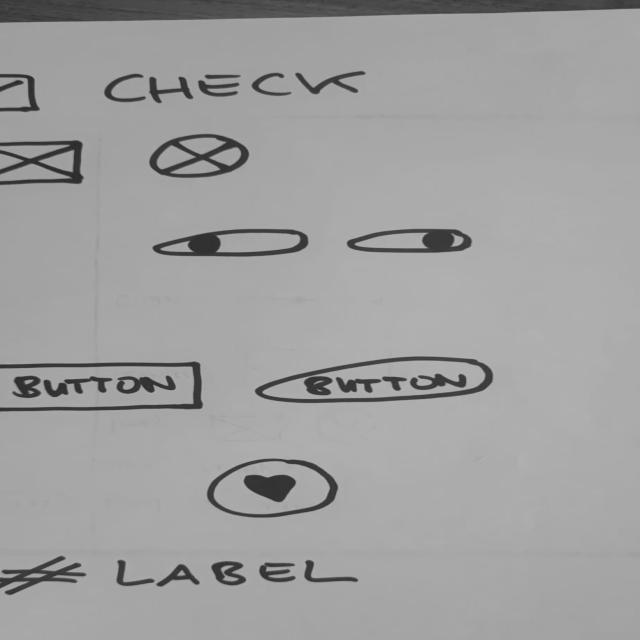button: (253, 355, 501, 407), (1, 360, 208, 416)
checkbox: (1, 60, 371, 116)
icon-button: (200, 456, 346, 524)
image: (1, 136, 94, 193), (147, 133, 253, 182)
label: (1, 553, 369, 601)
toggle: (146, 226, 316, 262), (343, 228, 477, 258)
